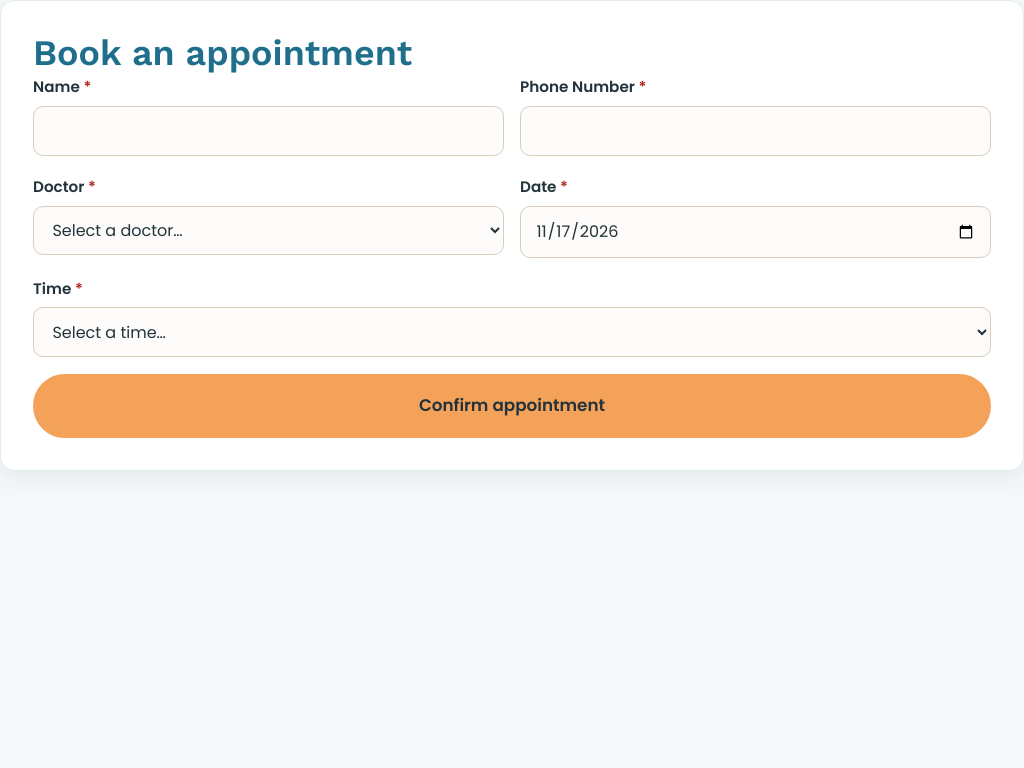
Test: AppointmentForm (Name, Phone Number, Date, Time) › blocks submission and shows errors when required fields are missing
The width and height of the screenshot is (1024, 768).
Click the button "Confirm appointment": (512, 406) [33,374,991,438]
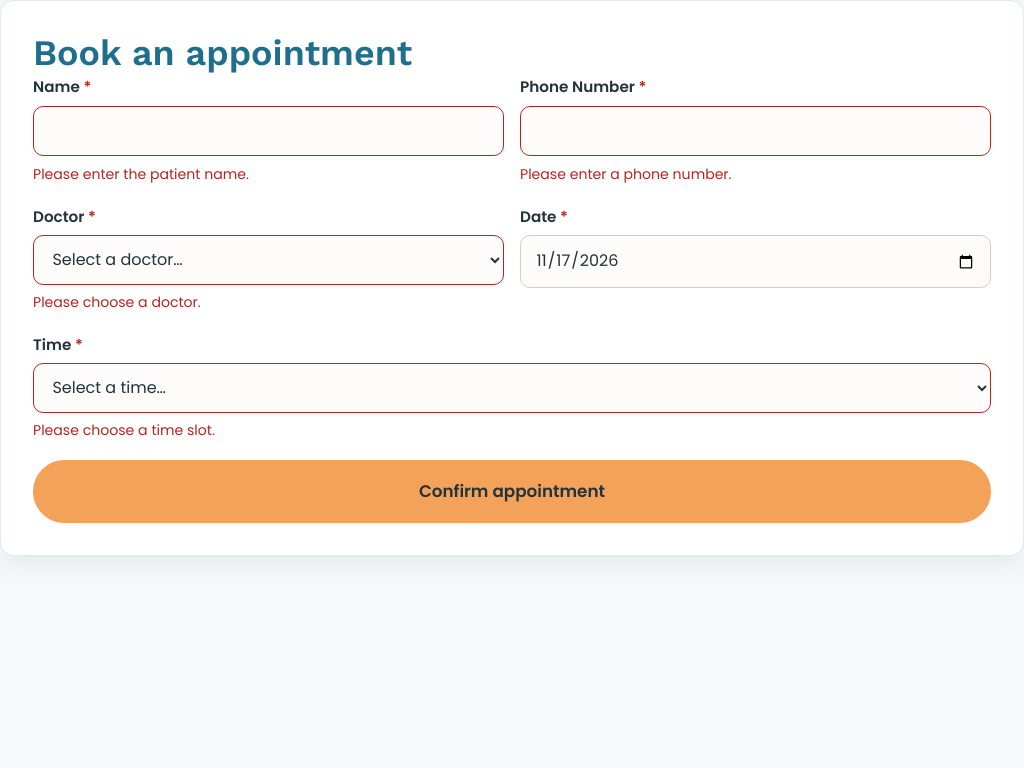
Expected: the text "Please enter the patient name." is shown, [33,164,249,184]
Expected: the text "Please choose a doctor." is shown, [33,292,201,312]
